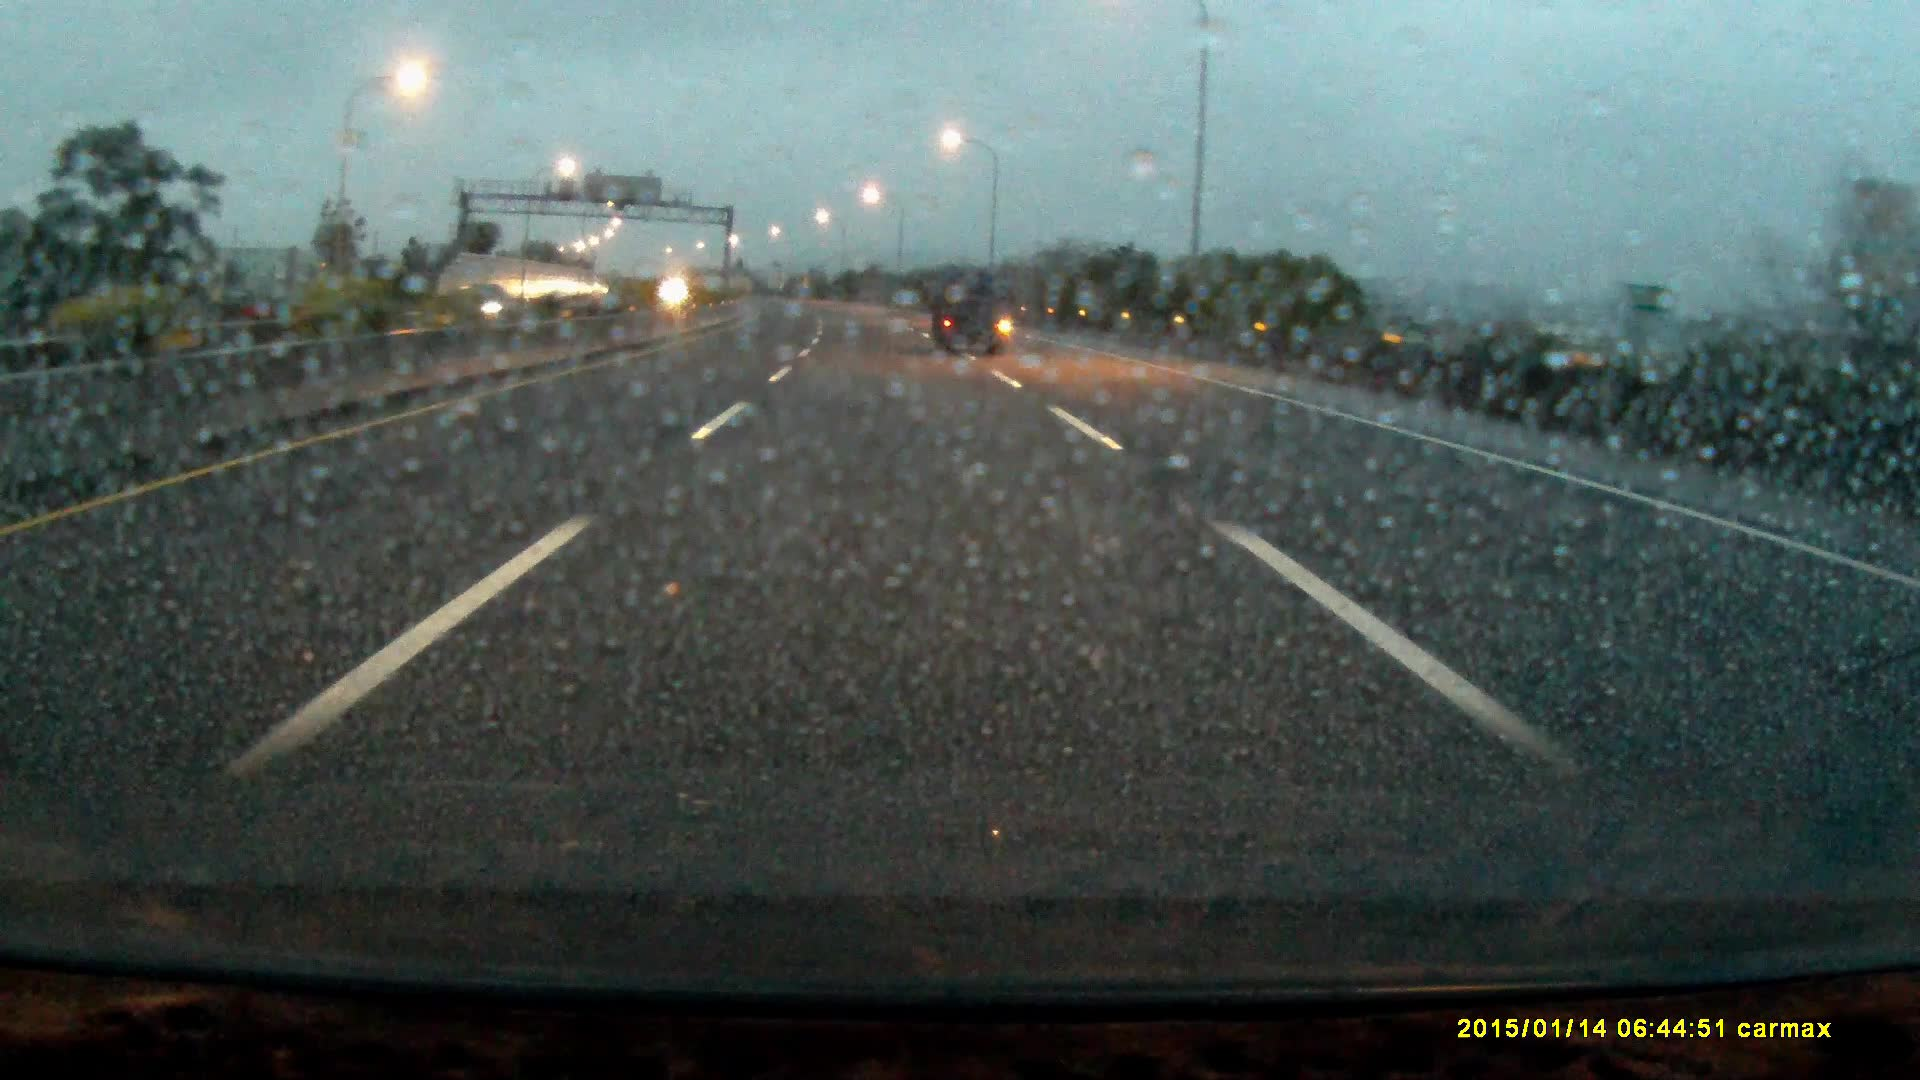vehicle: (930, 272, 1014, 357)
